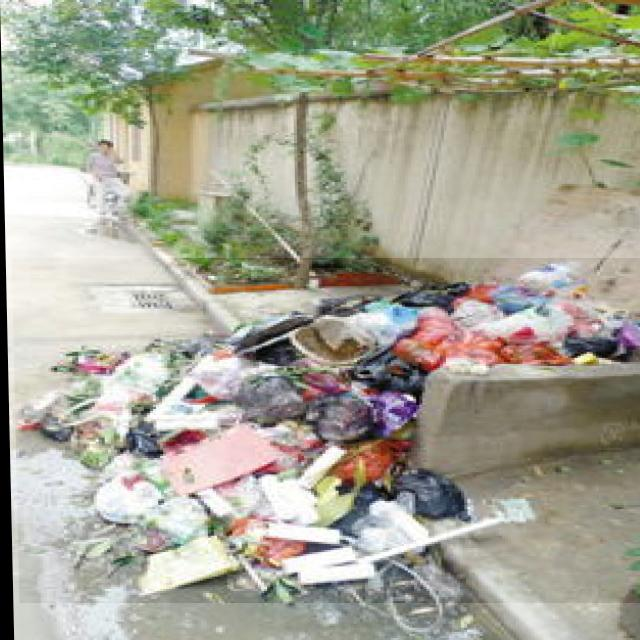garbage: (11, 258, 640, 603)
